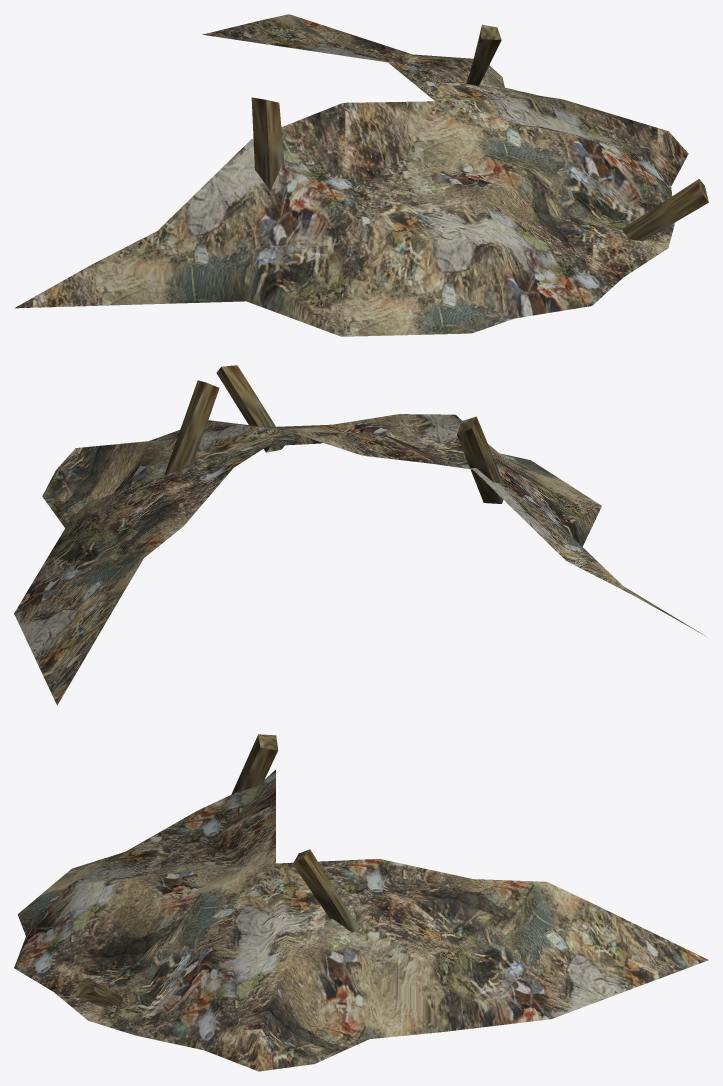
Rendered from wtrsh3.glb.
3 renders of one model, top to bottom at view 1: azimuth 30°, elevation 25°; view 2: azimuth 150°, elevation 25°; view 3: azimuth 270°, elevation 25°, orthographic. The views are drawn at different scales.
Visible parts, largest first — view 1: _wtrsh3; view 2: _wtrsh3; view 3: _wtrsh3.
Part boxes in pixels (bbox=[...]): _wtrsh3: bbox=[14, 14, 708, 336]; _wtrsh3: bbox=[14, 365, 704, 705]; _wtrsh3: bbox=[14, 734, 708, 1071].
Size of the model in its own units: 5.31 by 1.22 by 5.18.
Materials: 1 (1 with a texture image).
